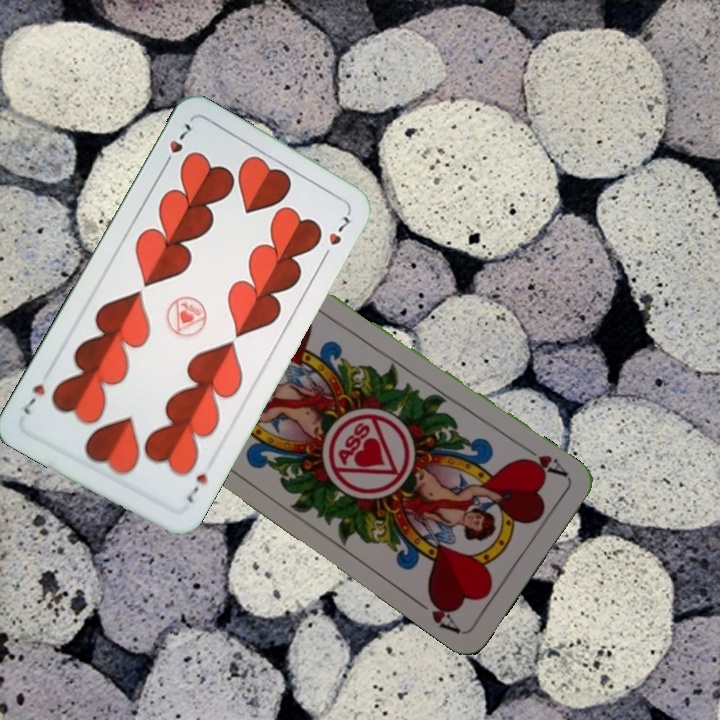H7: (158, 118, 197, 171), (182, 469, 211, 506)
HA: (517, 442, 571, 480)
